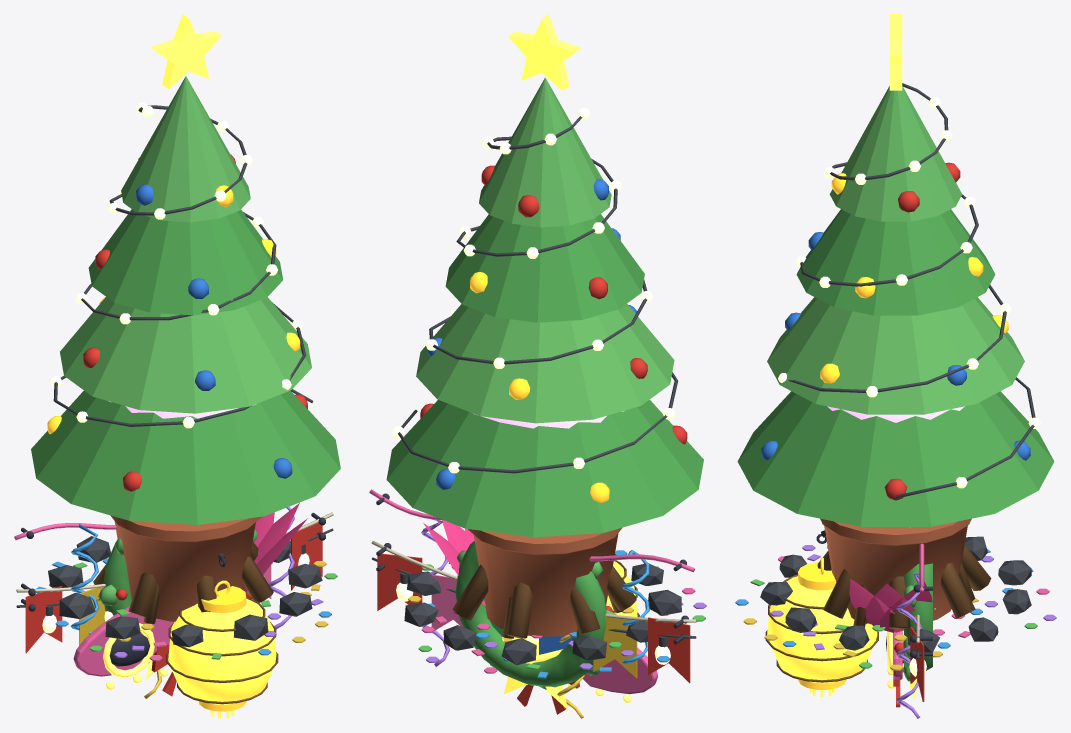
The model's file is casa-festas.glb.
The picture shows the model from 3 angles, left to right: view 1: azimuth 30°, elevation 25°; view 2: azimuth 150°, elevation 25°; view 3: azimuth 270°, elevation 25°; orthographic projection. The views are drawn at different scales.
Parts seen in each view (by area): view 1: festa-fim-de-ano-arvore, festa-junina-lanterna-papel, festa-junina-fogueira, festa-carnaval-mascara, festa-junina-bandeirinhas, festa-fim-de-ano-guirlanda, festa-carnaval-serpentina, festa-carnaval-confete, festa-lanternas-varal-de-luz, festa-lanternas-lanterna-chao; view 2: festa-fim-de-ano-arvore, festa-junina-fogueira, festa-junina-bandeirinhas, festa-fim-de-ano-guirlanda, festa-carnaval-mascara, festa-carnaval-serpentina, festa-carnaval-confete, festa-lanternas-varal-de-luz, festa-lanternas-lanterna-chao, festa-fim-de-ano-estrela-janela; view 3: festa-fim-de-ano-arvore, festa-junina-fogueira, festa-junina-lanterna-papel, festa-carnaval-mascara, festa-carnaval-confete, festa-fim-de-ano-guirlanda, festa-lanternas-lanterna-chao, festa-carnaval-serpentina, festa-junina-bandeirinhas.
Boxes of the visible parts, box(x1,y1,x2,y2) form: festa-fim-de-ano-arvore: box(31, 14, 340, 621); festa-junina-lanterna-papel: box(166, 553, 278, 718); festa-junina-fogueira: box(48, 536, 322, 647); festa-carnaval-mascara: box(73, 503, 307, 690); festa-junina-bandeirinhas: box(16, 512, 333, 653); festa-fim-de-ano-guirlanda: box(98, 529, 258, 696); festa-carnaval-serpentina: box(14, 506, 294, 698); festa-carnaval-confete: box(36, 558, 337, 661); festa-lanternas-varal-de-luz: box(16, 528, 333, 633); festa-lanternas-lanterna-chao: box(108, 401, 256, 623); festa-fim-de-ano-arvore: box(386, 14, 703, 636); festa-junina-fogueira: box(404, 563, 681, 665); festa-junina-bandeirinhas: box(371, 541, 696, 683); festa-fim-de-ano-guirlanda: box(455, 541, 616, 714); festa-carnaval-mascara: box(423, 520, 657, 703); festa-carnaval-serpentina: box(369, 489, 694, 718); festa-carnaval-confete: box(408, 550, 706, 678); festa-lanternas-varal-de-luz: box(372, 557, 696, 664); festa-lanternas-lanterna-chao: box(473, 410, 624, 638); festa-fim-de-ano-estrela-janela: box(502, 637, 567, 709); festa-fim-de-ano-arvore: box(737, 14, 1054, 624); festa-junina-fogueira: box(760, 536, 1031, 652); festa-junina-lanterna-papel: box(765, 530, 878, 697); festa-carnaval-mascara: box(849, 579, 932, 688); festa-carnaval-confete: box(735, 545, 1056, 670); festa-fim-de-ano-guirlanda: box(893, 563, 932, 707); festa-lanternas-lanterna-chao: box(827, 406, 975, 627); festa-carnaval-serpentina: box(896, 543, 932, 718); festa-junina-bandeirinhas: box(910, 614, 932, 701).
Size of the model in its own units: 1 by 2.05 by 0.8714.
